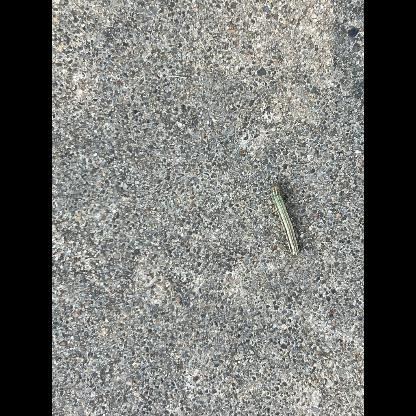Fall Armyworm Larvae: (268, 182, 302, 258)
